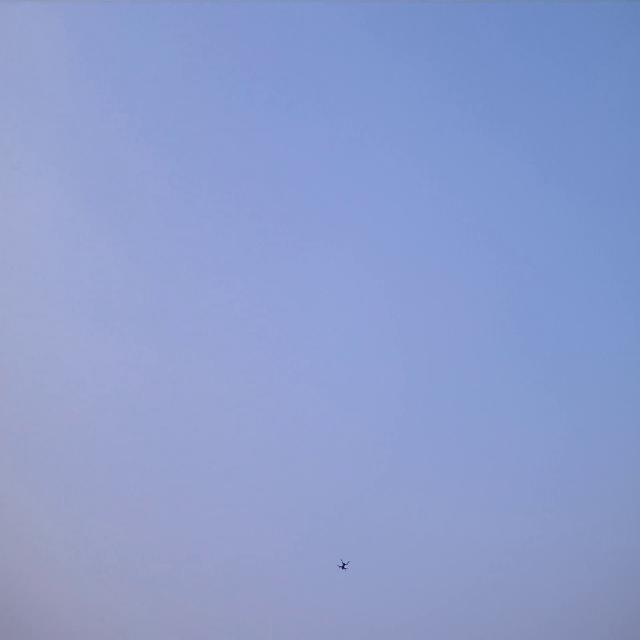UAV: (336, 558, 352, 573)
